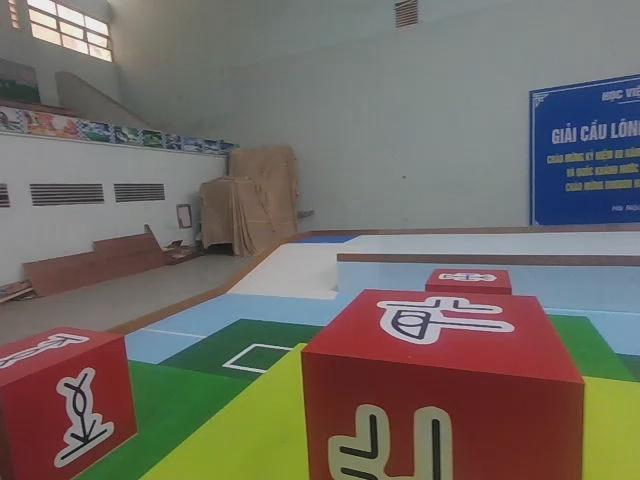R2 Real: (298, 285, 590, 480), (0, 322, 140, 480)
